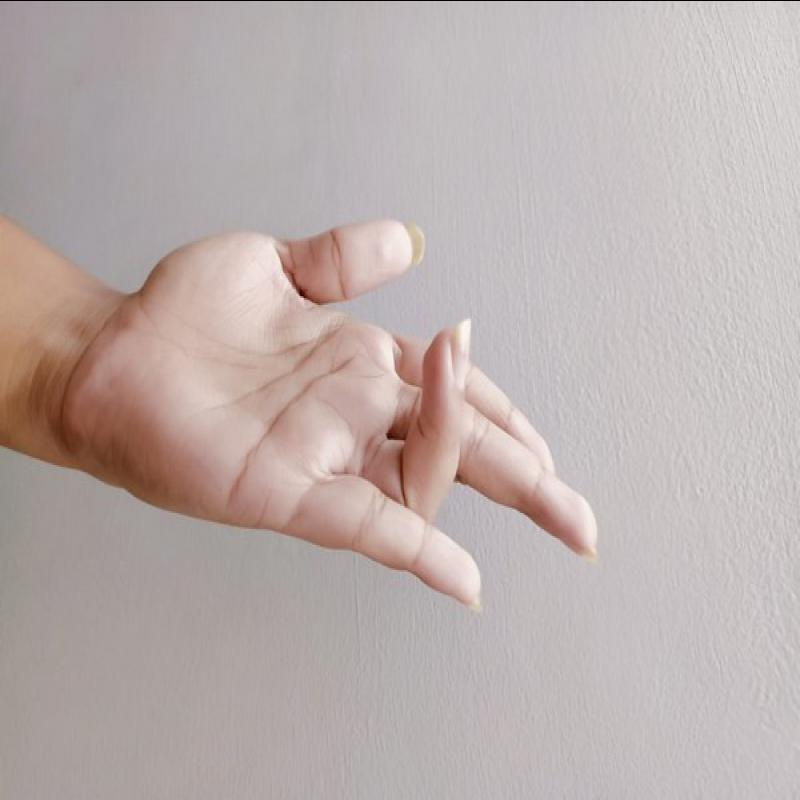Pathaaka: (63, 204, 619, 618)
